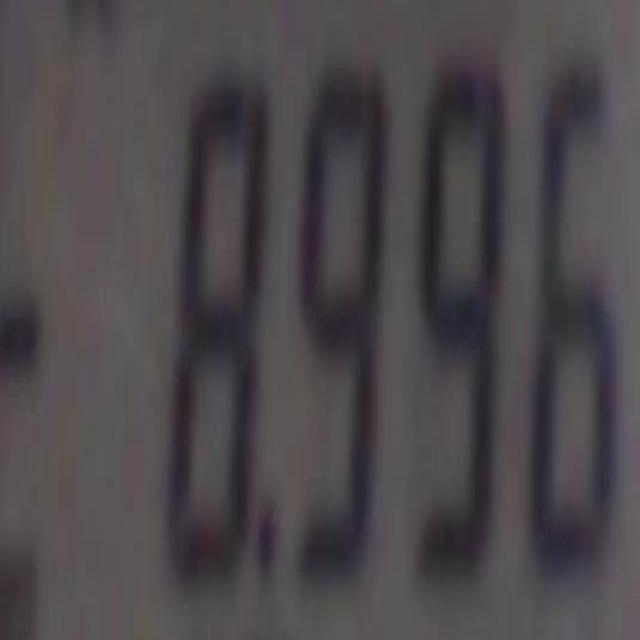.: (0, 296, 42, 371), (254, 506, 279, 597)
6: (532, 55, 614, 578)
8: (170, 76, 268, 579)
9: (410, 42, 512, 589), (297, 68, 388, 575)
